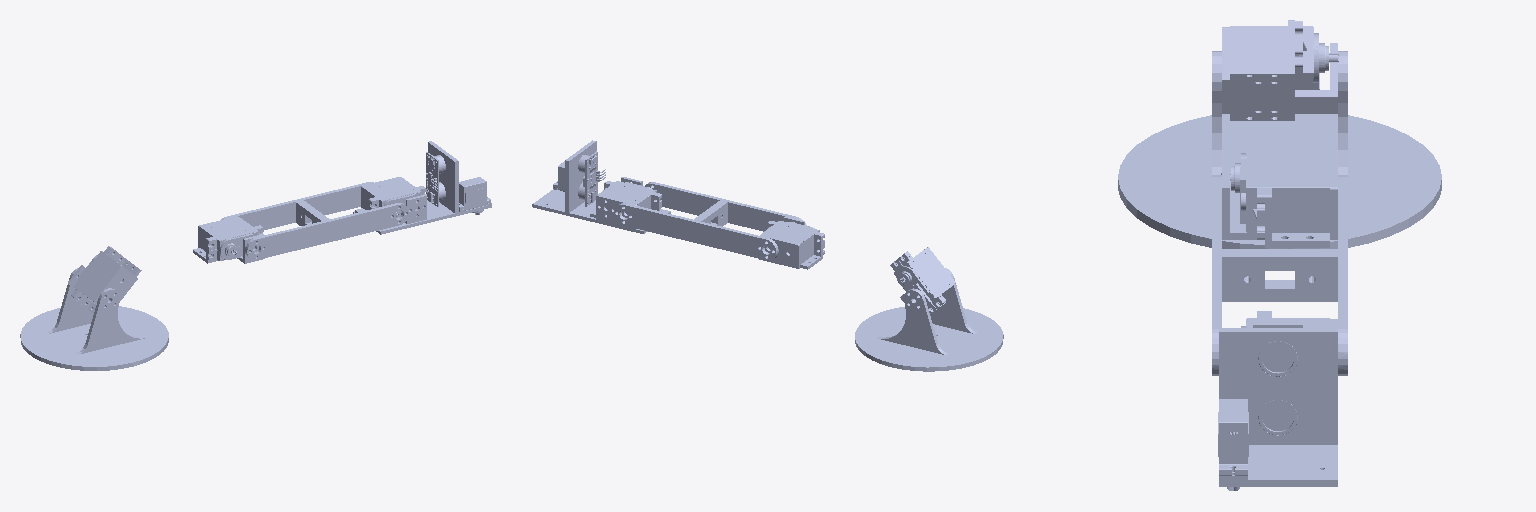
robot.urdf — ASSEM 2:
<?xml version="1.0" encoding="utf-8"?>
<!-- This URDF was automatically created by SolidWorks to URDF Exporter! Originally created by [author] ([email redacted]) 
     Commit Version: 1.6.0-4-g7f85cfe  Build Version: 1.6.7995.38578
     For more information, please see http://wiki.ros.org/sw_urdf_exporter -->
<robot
  name="ASSEM 2">
  <link
    name="base_link">
    <inertial>
      <origin
        xyz="0 -1.38777878078145E-17 0.04"
        rpy="0 0 0" />
      <mass
        value="0.15707963267949" />
      <inertia
        ixx="0.000391062835524979"
        ixy="-6.21980377065526E-36"
        ixz="9.88120452211026E-36"
        iyy="0.000391062835524979"
        iyz="7.61962617655533E-36"
        izz="0.000614574062858504" />
    </inertial>
    <visual>
      <origin
        xyz="0 0 0"
        rpy="0 0 0" />
      <geometry>
        <mesh
          filename="package://ASSEM 2/meshes/base_link.STL" />
      </geometry>
      <material
        name="">
        <color
          rgba="0.792156862745098 0.819607843137255 0.933333333333333 1" />
      </material>
    </visual>
    <collision>
      <origin
        xyz="0 0 0"
        rpy="0 0 0" />
      <geometry>
        <mesh
          filename="package://ASSEM 2/meshes/base_link.STL" />
      </geometry>
    </collision>
  </link>
  <link
    name="link1">
    <inertial>
      <origin
        xyz="0.00277146259382868 -0.000977617047691587 0.0392275940929765"
        rpy="0 0 0" />
      <mass
        value="0.10392584627471" />
      <inertia
        ixx="8.06918285221046E-05"
        ixy="2.30972045071663E-07"
        ixz="-1.9180114960661E-06"
        iyy="7.3013450070366E-05"
        iyz="2.74033815861125E-07"
        izz="0.000130206094147028" />
    </inertial>
    <visual>
      <origin
        xyz="0 0 0"
        rpy="0 0 0" />
      <geometry>
        <mesh
          filename="package://ASSEM 2/meshes/link1.STL" />
      </geometry>
      <material
        name="">
        <color
          rgba="0.792156862745098 0.819607843137255 0.933333333333333 1" />
      </material>
    </visual>
    <collision>
      <origin
        xyz="0 0 0"
        rpy="0 0 0" />
      <geometry>
        <mesh
          filename="package://ASSEM 2/meshes/link1.STL" />
      </geometry>
    </collision>
  </link>
  <joint
    name="joint1"
    type="revolute">
    <origin
      xyz="0 0 0.0652952059846286"
      rpy="0 0 0" />
    <parent
      link="base_link" />
    <child
      link="link1" />
    <axis
      xyz="0 -1 0" />
    <limit
      lower="0"
      upper="0"
      effort="0"
      velocity="0" />
  </joint>
  <link
    name="link2">
    <inertial>
      <origin
        xyz="0.0569964644660941 3.53553390591843E-06 0.0815648422319146"
        rpy="0 0 0" />
      <mass
        value="0.0258099114254626" />
      <inertia
        ixx="1.44147403776671E-05"
        ixy="1.50244709991666E-22"
        ixz="-5.01044196736082E-21"
        iyy="2.38689128817972E-05"
        iyz="-7.93195981757251E-22"
        izz="1.12484016319642E-05" />
    </inertial>
    <visual>
      <origin
        xyz="0 0 0"
        rpy="0 0 0" />
      <geometry>
        <mesh
          filename="package://ASSEM 2/meshes/link2.STL" />
      </geometry>
      <material
        name="">
        <color
          rgba="0.792156862745098 0.819607843137255 0.933333333333333 1" />
      </material>
    </visual>
    <collision>
      <origin
        xyz="0 0 0"
        rpy="0 0 0" />
      <geometry>
        <mesh
          filename="package://ASSEM 2/meshes/link2.STL" />
      </geometry>
    </collision>
  </link>
  <joint
    name="joint2"
    type="revolute">
    <origin
      xyz="0.0142446661070031 -0.0815648422319146 0.0779494601223742"
      rpy="-1.5707963267949 0 0" />
    <parent
      link="link1" />
    <child
      link="link2" />
    <axis
      xyz="0 0 -1" />
    <limit
      lower="-3.14"
      upper="3.14"
      effort="0.8357"
      velocity="5.235" />
  </joint>
  <link
    name="link3">
    <inertial>
      <origin
        xyz="0.046197265017532 0.000921908863603743 0.0830187996806798"
        rpy="0 0 0" />
      <mass
        value="0.0698780274199756" />
      <inertia
        ixx="2.44614411888194E-05"
        ixy="1.52392496270811E-08"
        ixz="3.5709307046447E-07"
        iyy="4.70199977946402E-05"
        iyz="3.04492741754066E-08"
        izz="2.75333599269246E-05" />
    </inertial>
    <visual>
      <origin
        xyz="0 0 0"
        rpy="0 0 0" />
      <geometry>
        <mesh
          filename="package://ASSEM 2/meshes/link3.STL" />
      </geometry>
      <material
        name="">
        <color
          rgba="0.792156862745098 0.819607843137255 0.933333333333333 1" />
      </material>
    </visual>
    <collision>
      <origin
        xyz="0 0 0"
        rpy="0 0 0" />
      <geometry>
        <mesh
          filename="package://ASSEM 2/meshes/link3.STL" />
      </geometry>
    </collision>
  </link>
  <joint
    name="joint3"
    type="revolute">
    <origin
      xyz="0.113996464466094 0 0"
      rpy="0 0 0" />
    <parent
      link="link2" />
    <child
      link="link3" />
    <axis
      xyz="0 0 -1" />
    <limit
      lower="-3.14"
      upper="3.14"
      effort="0.83357"
      velocity="5.235" />
  </joint>
  <link
    name="link4">
    <inertial>
      <origin
        xyz="0.0314868755239738 0.0019170991270448 0.0215200689134932"
        rpy="0 0 0" />
      <mass
        value="0.0770831626214746" />
      <inertia
        ixx="1.81599660334155E-05"
        ixy="2.87203989654407E-06"
        ixz="4.28919539038607E-07"
        iyy="3.64659853084218E-05"
        iyz="5.40034548023353E-08"
        izz="3.35780702510268E-05" />
    </inertial>
    <visual>
      <origin
        xyz="0 0 0"
        rpy="0 0 0" />
      <geometry>
        <mesh
          filename="package://ASSEM 2/meshes/link4.STL" />
      </geometry>
      <material
        name="">
        <color
          rgba="0.792156862745098 0.819607843137255 0.933333333333333 1" />
      </material>
    </visual>
    <collision>
      <origin
        xyz="0 0 0"
        rpy="0 0 0" />
      <geometry>
        <mesh
          filename="package://ASSEM 2/meshes/link4.STL" />
      </geometry>
    </collision>
  </link>
  <joint
    name="joint4"
    type="revolute">
    <origin
      xyz="0.164135 0 0.0592138803375937"
      rpy="0 0 0" />
    <parent
      link="link3" />
    <child
      link="link4" />
    <axis
      xyz="0 0 -1" />
    <limit
      lower="-3.14"
      upper="3.14"
      effort="0.83357"
      velocity="5.235" />
  </joint>
  <link
    name="gripkiri">
    <inertial>
      <origin
        xyz="0.0140725750696402 -3.99786310250339E-05 -0.0537459245884662"
        rpy="0 0 0" />
      <mass
        value="0.00468228410417343" />
      <inertia
        ixx="2.37887235512241E-07"
        ixy="-6.78988706974305E-08"
        ixz="-1.14877427543648E-22"
        iyy="2.06560886388221E-06"
        iyz="-3.84647594318598E-24"
        izz="2.29101000844999E-06" />
    </inertial>
    <visual>
      <origin
        xyz="0 0 0"
        rpy="0 0 0" />
      <geometry>
        <mesh
          filename="package://ASSEM 2/meshes/gripkiri.STL" />
      </geometry>
      <material
        name="">
        <color
          rgba="0.792156862745098 0.819607843137255 0.933333333333333 1" />
      </material>
    </visual>
    <collision>
      <origin
        xyz="0 0 0"
        rpy="0 0 0" />
      <geometry>
        <mesh
          filename="package://ASSEM 2/meshes/gripkiri.STL" />
      </geometry>
    </collision>
  </link>
  <joint
    name="gripkiri"
    type="revolute">
    <origin
      xyz="0.083525 0.0779459245884686 0.0395009618943229"
      rpy="-1.57079632679492 0 0" />
    <parent
      link="link4" />
    <child
      link="gripkiri" />
    <axis
      xyz="0 0 -1" />
    <limit
      lower="-3.14"
      upper="3.14"
      effort="0.21575"
      velocity="10.47" />
  </joint>
  <link
    name="endkiri">
    <inertial>
      <origin
        xyz="-0.343708506679782 0.00010287486843924 0.0204662433594579"
        rpy="0 0 0" />
      <mass
        value="0.443141170884827" />
      <inertia
        ixx="0.00146787791830436"
        ixy="-1.44636011547407E-05"
        ixz="0.00186172597660297"
        iyy="0.00928119668905264"
        iyz="2.51965619442872E-06"
        izz="0.00867223786281813" />
    </inertial>
    <visual>
      <origin
        xyz="0 0 0"
        rpy="0 0 0" />
      <geometry>
        <mesh
          filename="package://ASSEM 2/meshes/endkiri.STL" />
      </geometry>
      <material
        name="">
        <color
          rgba="1 1 1 1" />
      </material>
    </visual>
    <collision>
      <origin
        xyz="0 0 0"
        rpy="0 0 0" />
      <geometry>
        <mesh
          filename="package://ASSEM 2/meshes/endkiri.STL" />
      </geometry>
    </collision>
  </link>
  <joint
    name="endkiri"
    type="fixed">
    <origin
      xyz="0.064689 0.017215 -0.051746"
      rpy="0 0 0" />
    <parent
      link="gripkiri" />
    <child
      link="endkiri" />
    <axis
      xyz="0 0 0" />
  </joint>
  <link
    name="gripkanan">
    <inertial>
      <origin
        xyz="0.0140530439209312 0.000742242506165516 -0.00199999999999999"
        rpy="0 0 0" />
      <mass
        value="0.00468228410417342" />
      <inertia
        ixx="2.3567072390795E-07"
        ixy="-2.35409753323601E-08"
        ixz="-2.86392443881652E-23"
        iyy="2.06782537548649E-06"
        iyz="1.7069344747454E-23"
        izz="2.29101000844998E-06" />
    </inertial>
    <visual>
      <origin
        xyz="0 0 0"
        rpy="0 0 0" />
      <geometry>
        <mesh
          filename="package://ASSEM 2/meshes/gripkanan.STL" />
      </geometry>
      <material
        name="">
        <color
          rgba="0.792156862745098 0.819607843137255 0.933333333333333 1" />
      </material>
    </visual>
    <collision>
      <origin
        xyz="0 0 0"
        rpy="0 0 0" />
      <geometry>
        <mesh
          filename="package://ASSEM 2/meshes/gripkanan.STL" />
      </geometry>
    </collision>
  </link>
  <joint
    name="gripkanan"
    type="revolute">
    <origin
      xyz="0.083475 0.0262 0.003701"
      rpy="-1.5708 0 0" />
    <parent
      link="link4" />
    <child
      link="gripkanan" />
    <axis
      xyz="0 0 -1" />
    <limit
      lower="-3.14"
      upper="3.14"
      effort="0.21575"
      velocity="10.47" />
  </joint>
  <link
    name="endkanan">
    <inertial>
      <origin
        xyz="-0.344437034985364 -0.00451712104558855 0.0204662433594592"
        rpy="0 0 0" />
      <mass
        value="0.443141170884827" />
      <inertia
        ixx="0.00146787791830436"
        ixy="-1.44636011547412E-05"
        ixz="0.00186172597660296"
        iyy="0.00928119668905264"
        iyz="2.51965619442887E-06"
        izz="0.00867223786281813" />
    </inertial>
    <visual>
      <origin
        xyz="0 0 0"
        rpy="0 0 0" />
      <geometry>
        <mesh
          filename="package://ASSEM 2/meshes/endkanan.STL" />
      </geometry>
      <material
        name="">
        <color
          rgba="1 1 1 1" />
      </material>
    </visual>
    <collision>
      <origin
        xyz="0 0 0"
        rpy="0 0 0" />
      <geometry>
        <mesh
          filename="package://ASSEM 2/meshes/endkanan.STL" />
      </geometry>
    </collision>
  </link>
  <joint
    name="endkanan"
    type="fixed">
    <origin
      xyz="0.0654673705371463 -0.0139650776923003 0"
      rpy="0 0 0" />
    <parent
      link="gripkanan" />
    <child
      link="endkanan" />
    <axis
      xyz="0 0 0" />
  </joint>
</robot>

--- Render facts (derived) ---
Views: 3 orthographic renders of the robot side by side, from view 1: azimuth 30°, elevation 25°; view 2: azimuth 150°, elevation 25°; view 3: azimuth 270°, elevation 25°.
Robot: ASSEM 2 — 9 links, 8 joints (6 revolute, 2 fixed); root link base_link; default pose: all joints at 0.
Visible links, largest first — view 1: link1, link3, link4; view 2: link1, link3, link4; view 3: link1, link3, link4.
Link boxes in pixels (x1=…): link1: x1=20, y1=246, x2=168, y2=370; link3: x1=193, y1=182, x2=408, y2=263; link4: x1=353, y1=141, x2=491, y2=234; link1: x1=855, y1=247, x2=1003, y2=371; link3: x1=614, y1=182, x2=824, y2=269; link4: x1=532, y1=140, x2=670, y2=233; link1: x1=1118, y1=20, x2=1441, y2=248; link3: x1=1212, y1=138, x2=1347, y2=375; link4: x1=1218, y1=311, x2=1337, y2=490.
Size in the robot's own frame: 0.4516 by 0.13 by 0.1002 metres.
Meshes: 9 distinct files referenced, 3 mesh visuals loaded (3 binary STL); not drawn: 6 (reference not matched to a file when rendering).